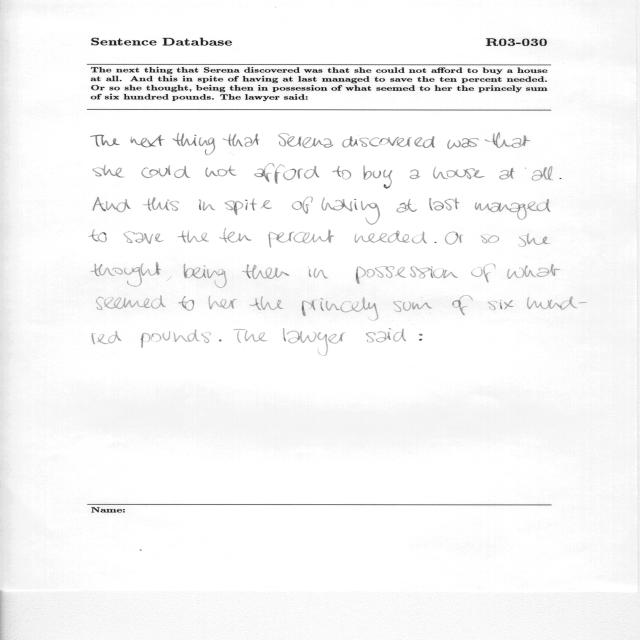word: (356, 266, 458, 284), (302, 297, 379, 320), (91, 263, 161, 287), (321, 197, 380, 225), (475, 199, 551, 220), (283, 329, 345, 354), (254, 163, 320, 184), (141, 329, 211, 348), (269, 230, 335, 248), (342, 136, 435, 148), (97, 295, 166, 310), (184, 264, 227, 288), (355, 231, 428, 244), (173, 133, 216, 155), (527, 296, 587, 310), (279, 133, 334, 148), (225, 199, 273, 216), (507, 264, 561, 279), (242, 265, 289, 280), (364, 165, 393, 189), (485, 133, 531, 148), (141, 165, 190, 178), (433, 167, 485, 179), (93, 197, 131, 212), (366, 329, 407, 342), (143, 197, 179, 211), (123, 232, 164, 244), (249, 296, 284, 310), (223, 134, 260, 147), (234, 329, 268, 343), (471, 264, 495, 283), (130, 135, 165, 148), (518, 233, 550, 247), (219, 230, 252, 243), (393, 301, 432, 312), (177, 230, 209, 243), (93, 165, 124, 178), (429, 198, 460, 211), (452, 296, 473, 315), (92, 331, 122, 344), (208, 296, 237, 309), (291, 197, 313, 214), (447, 138, 479, 149), (205, 166, 237, 177), (91, 135, 120, 147), (499, 168, 526, 180), (532, 166, 553, 181), (396, 199, 417, 213), (487, 300, 514, 310), (445, 231, 464, 245), (333, 166, 352, 179), (178, 296, 194, 311), (308, 267, 328, 278), (89, 230, 107, 242), (199, 200, 216, 211), (481, 234, 499, 243), (410, 170, 420, 179), (419, 334, 423, 341), (167, 276, 171, 281), (219, 339, 221, 342), (560, 178, 562, 179), (435, 242, 437, 243)
